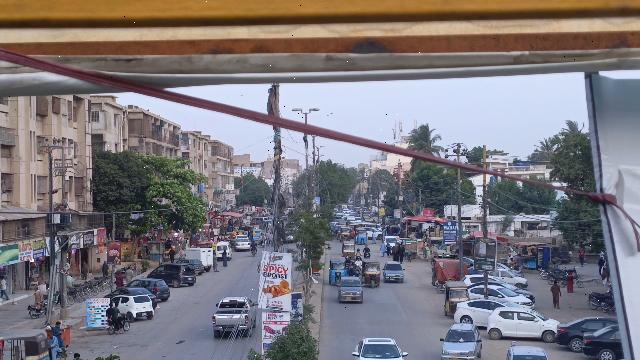Bike: (105, 314, 131, 336)
Car: (486, 305, 559, 343), (209, 293, 259, 339), (554, 315, 614, 352), (439, 322, 484, 360), (577, 322, 620, 360), (454, 298, 506, 327), (350, 336, 409, 360), (148, 263, 199, 288), (117, 294, 155, 321), (337, 275, 364, 305), (143, 275, 171, 302), (503, 345, 551, 360), (381, 261, 406, 286)
Person: (549, 280, 563, 308), (53, 321, 65, 347), (104, 302, 117, 323), (114, 300, 121, 319)
Rickshaw: (442, 278, 467, 319), (361, 258, 381, 289), (328, 255, 347, 285)
Truck: (187, 245, 214, 269)
